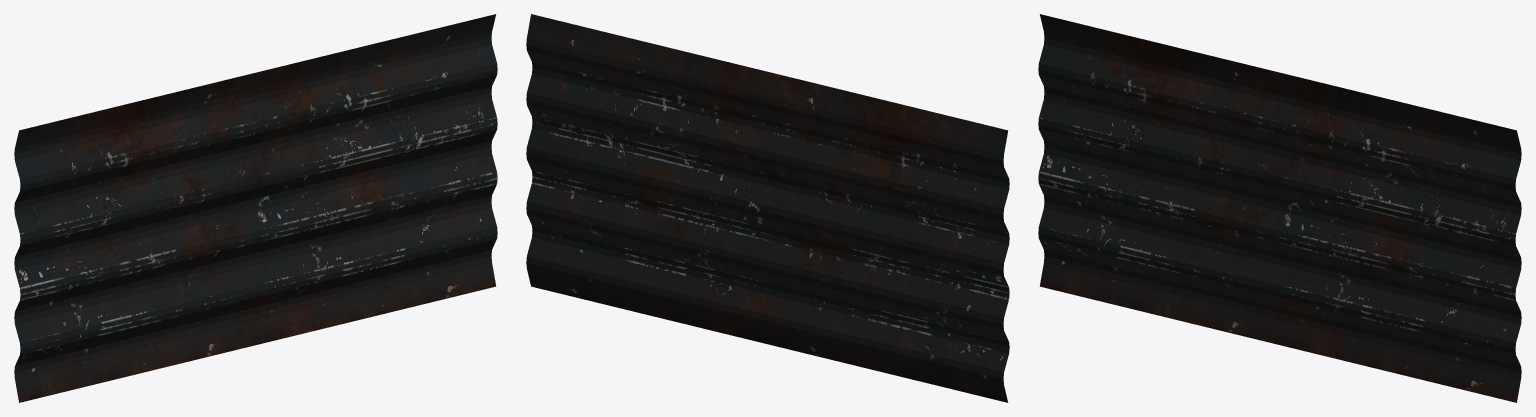
File: Bend1_GrayRusty.gltf
3 renders of one model, left to right at view 1: azimuth 30°, elevation 25°; view 2: azimuth 150°, elevation 25°; view 3: azimuth 330°, elevation 25°, orthographic.
Parts seen in each view (by area): view 1: Plane; view 2: Plane; view 3: Plane.
Boxes of the visible parts, x1=… form: Plane: x1=14, y1=14, x2=497, y2=402; Plane: x1=526, y1=14, x2=1009, y2=402; Plane: x1=1038, y1=14, x2=1521, y2=402.
Bounding box in the file's own units: 7.03 × 3.84 × 0.155.
1 material, 1 textured.
